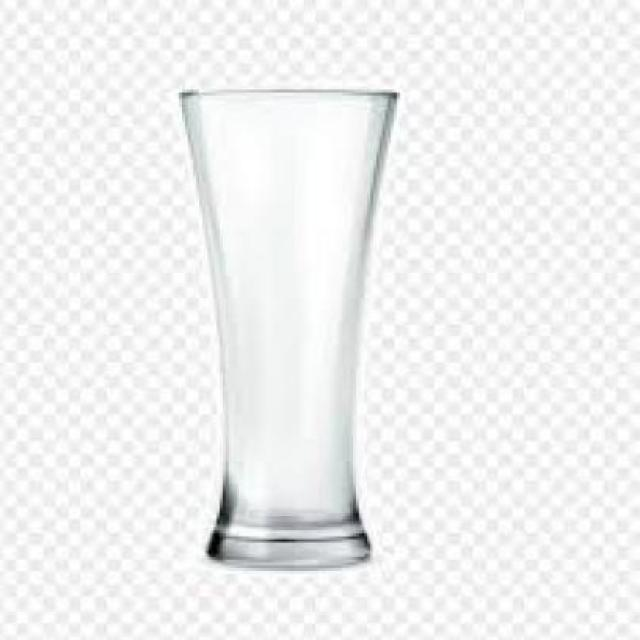kaca: (182, 86, 404, 560)
